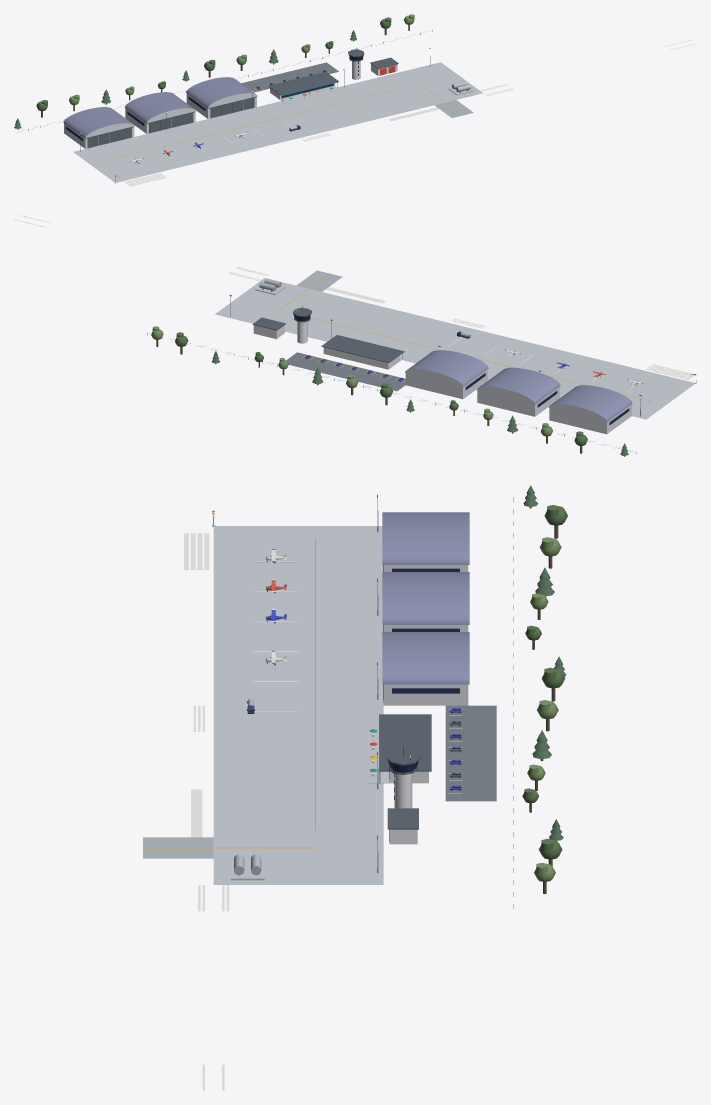
The model's file is airfield.glb.
3 renders of one model, top to bottom at view 1: azimuth 30°, elevation 25°; view 2: azimuth 150°, elevation 25°; view 3: azimuth 270°, elevation 25°, orthographic. The views are drawn at different scales.
Parts seen in each view (by area): view 1: Buildings, Threshold; view 2: Buildings, Threshold; view 3: Buildings, Threshold.
Part boxes in pixels (x1=…): Buildings: x1=14, y1=14, x2=482, y2=182; Threshold: x1=124, y1=40, x2=696, y2=186; Buildings: x1=147, y1=270, x2=695, y2=456; Threshold: x1=14, y1=215, x2=694, y2=379; Buildings: x1=143, y1=485, x2=567, y2=908; Threshold: x1=184, y1=533, x2=229, y2=1090.
Size of the model in its own units: 492 by 24 by 150.
